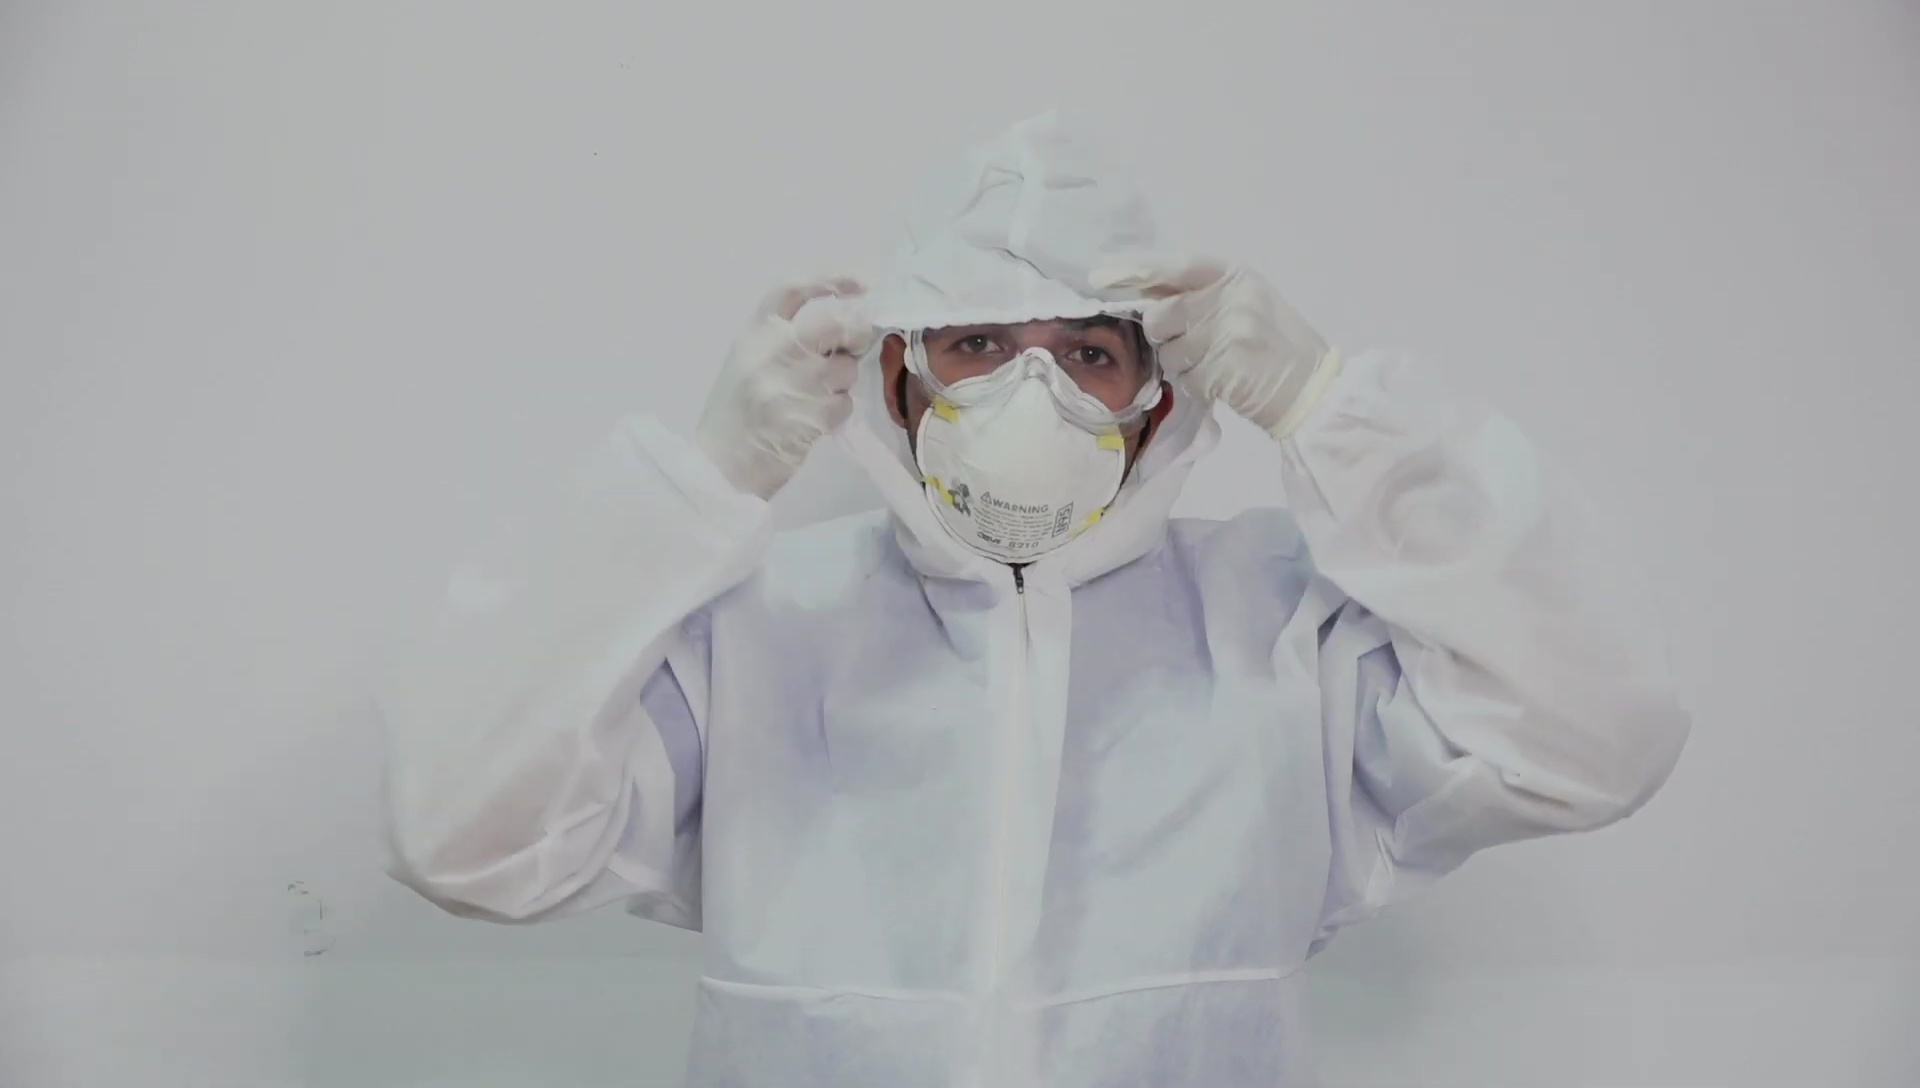Coverall: (376, 101, 1689, 1087)
Gloves: (687, 269, 880, 503), (1139, 251, 1342, 444)
Goggles: (910, 324, 1165, 440)
with_mask: (914, 348, 1128, 564)
